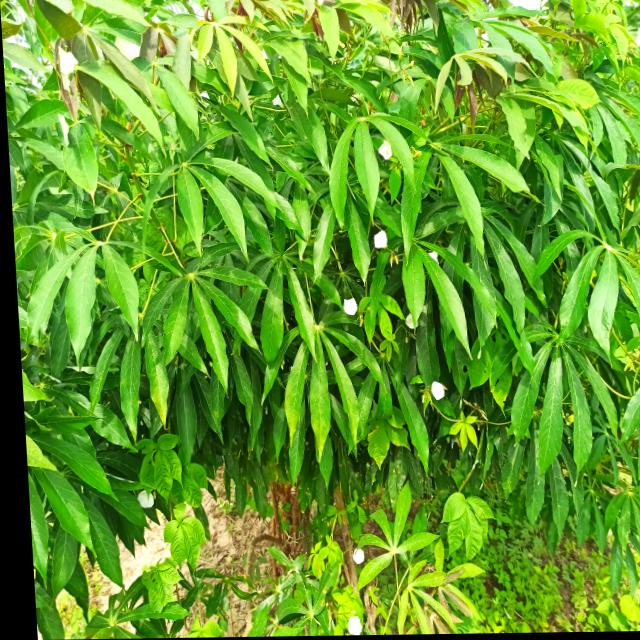Maleza: (498, 541, 640, 637), (158, 456, 209, 568), (138, 559, 200, 612), (134, 434, 181, 499), (447, 485, 489, 556), (449, 412, 478, 454)
